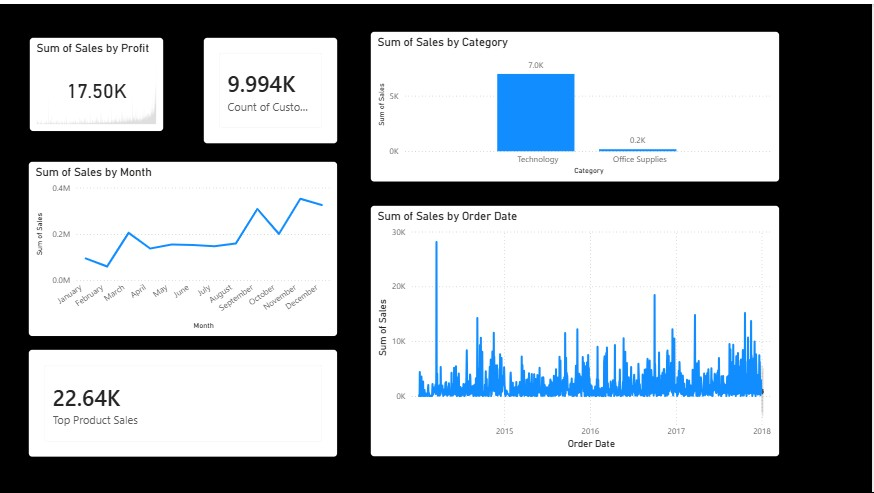

This screenshot's page, from the dashboard's own definition file:
{"tool":"powerbi","page":{"name":"Page 2","canvas":[1280,720],"ordinal":0},"visuals":[{"type":"kpi","fields":{"Indicator":["Sum(Sample - Superstore.Sales)"],"TrendLine":["Sample - Superstore.Profit"]},"box":[33.8,39.7,216,157.2],"z":0},{"type":"cardVisual","fields":{"Data":["CountNonNull(Sample - Superstore.Customer ID)"]},"box":[289.5,30.9,216,174.9],"z":1000},{"type":"clusteredColumnChart","fields":{"Y":["Sum(Sample - Superstore.Sales)"],"Category":["Sample - Superstore.Category"]},"box":[534.9,30.9,620.1,239.5],"z":2000},{"type":"lineChart","fields":{"Y":["Sum(Sample - Superstore.Sales)"],"Category":["Sample - Superstore.Order Date.Variation.Date Hierarchy.Year","Sample - Superstore.Order Date.Variation.Date Hierarchy.Quarter","Sample - Superstore.Order Date.Variation.Date Hierarchy.Month","Sample - Superstore.Order Date.Variation.Date Hierarchy.Day"]},"box":[33.9,331.9,472.4,276],"z":3000},{"type":"lineChart","fields":{"Category":["Sample - Superstore.Order Date"],"Y":["Sum(Sample - Superstore.Sales)"]},"box":[535,331.9,619.7,387.7],"z":4000}]}

Visuals, with their boxes in screenshot pixels (x1, y1, x2, y2), scaled from the page's 1280x720 canvas onto the 874x493 screenshot:
kpi - Sum(Sample - Superstore.Sales) x Sample - Superstore.Profit: 23 27 171 135
cardVisual - CountNonNull(Sample - Superstore.Customer ID): 198 21 345 141
clusteredColumnChart - Sum(Sample - Superstore.Sales) x Sample - Superstore.Category: 365 21 789 185
lineChart - Sum(Sample - Superstore.Sales) x Sample - Superstore.Order Date.Variation.Date Hierarchy.Year: 23 227 346 416
lineChart - Sample - Superstore.Order Date x Sum(Sample - Superstore.Sales): 365 227 788 492
